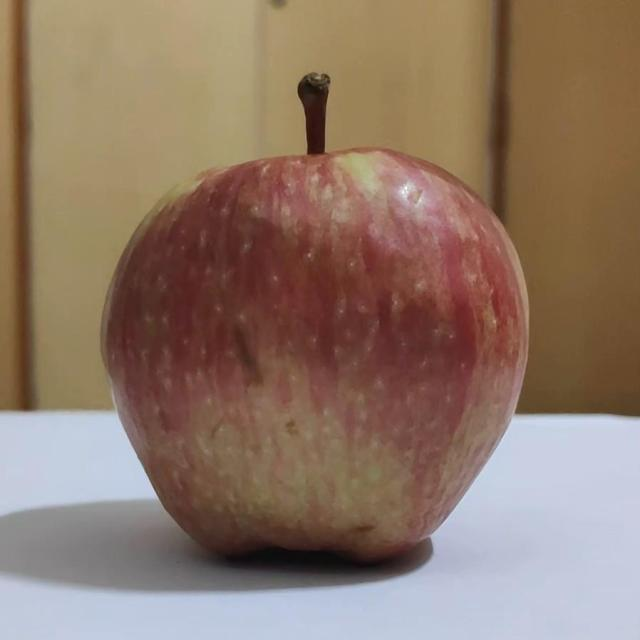Apple: (102, 73, 528, 562)
